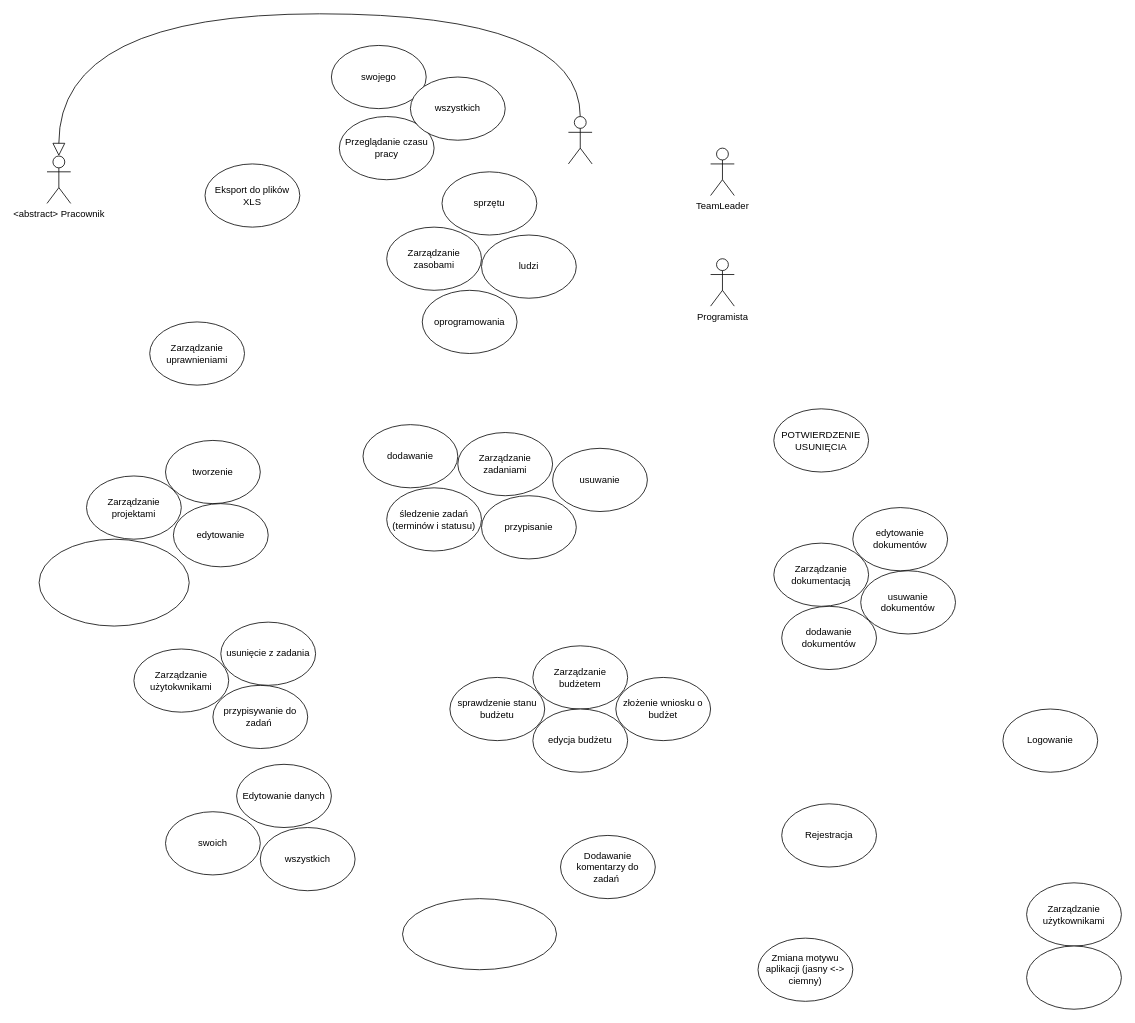
The diagram is 1135 pixels wide and 1023 high, and some of its shapes have lost their labels. The shapes that lost their labels are listed below. From the top down, each one's box as (x1, y1, x2, y2) in pixels, then its label:
(568, 116, 592, 164): Szef
(38, 538, 189, 626): śledzenie postępów projektów (celów, harmonogramów, priorytetów
(402, 898, 557, 970): Dodawanie odpowiedzi do najczęściej zadawanych pytań (modyfikacja FAQ)
